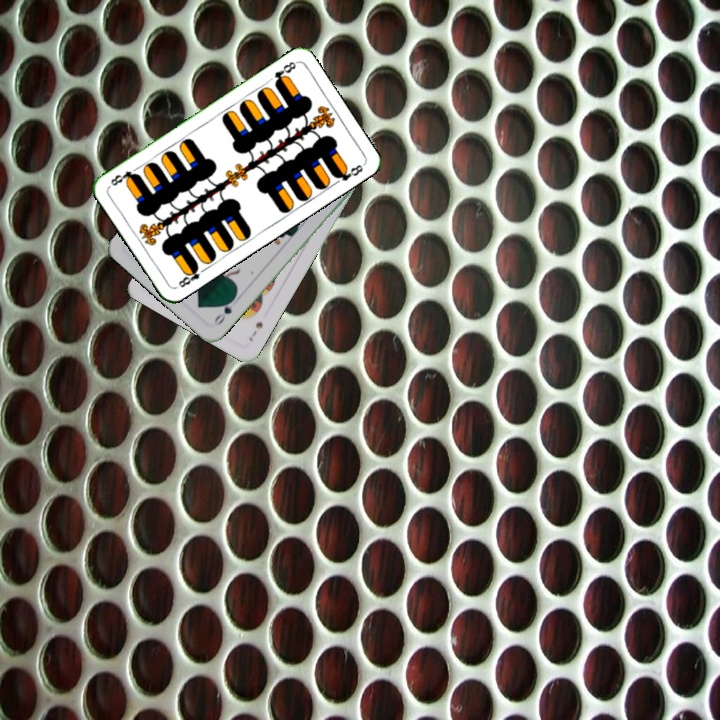E8: (174, 261, 209, 290), (270, 57, 299, 88)
GO: (209, 293, 238, 328)
S7: (245, 317, 266, 344)
